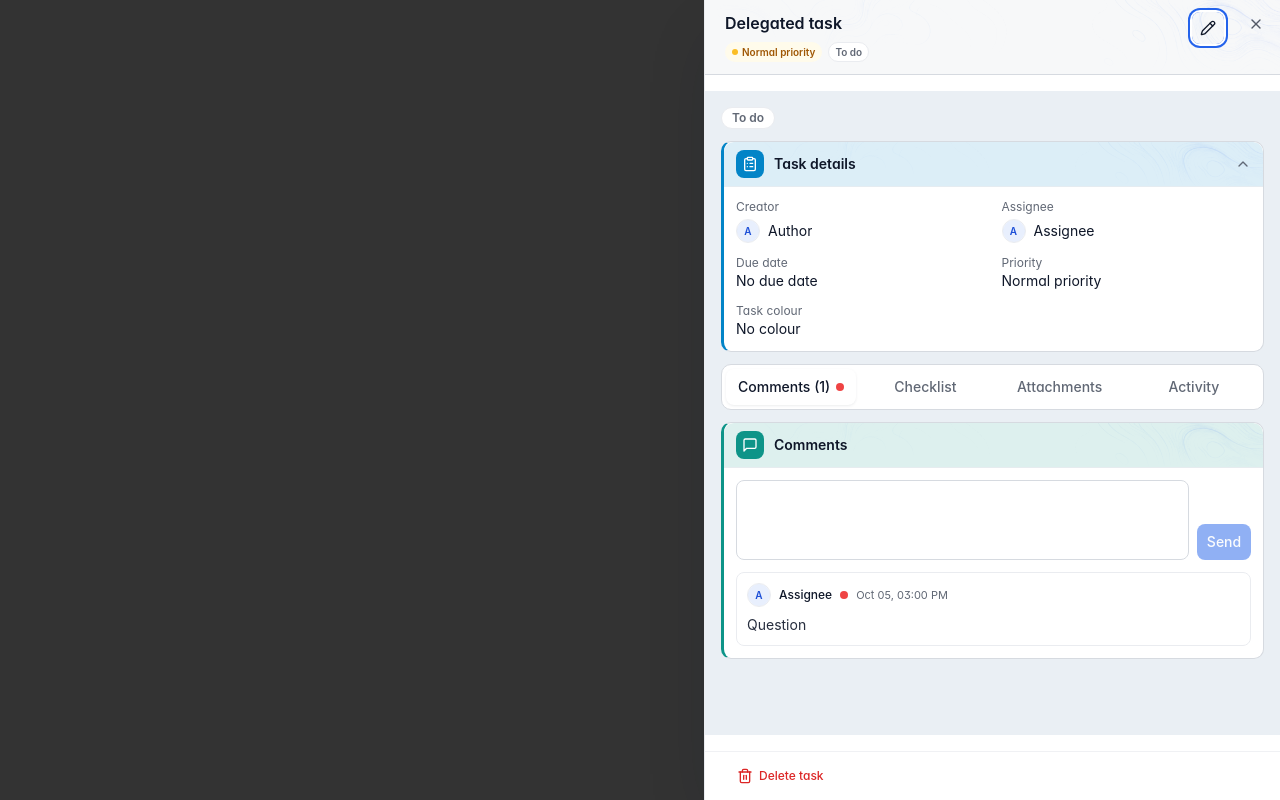
Test case: localizes unknown activity and status codes in en
Click the tab "Activity". click: (1194, 387)
box: top-left (1129, 369), bottom-right (1259, 405)
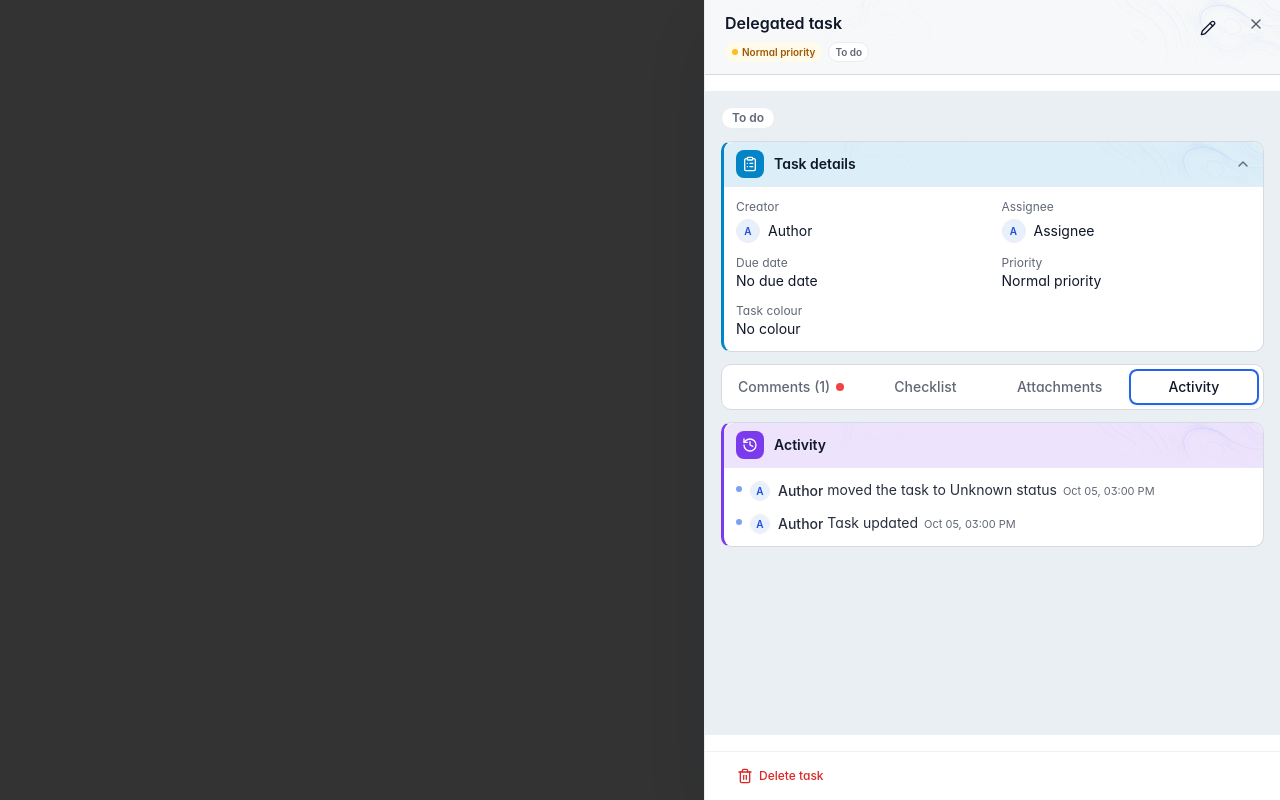
Check: the text "Task updated" is shown, box top-left (827, 514), bottom-right (918, 531)
